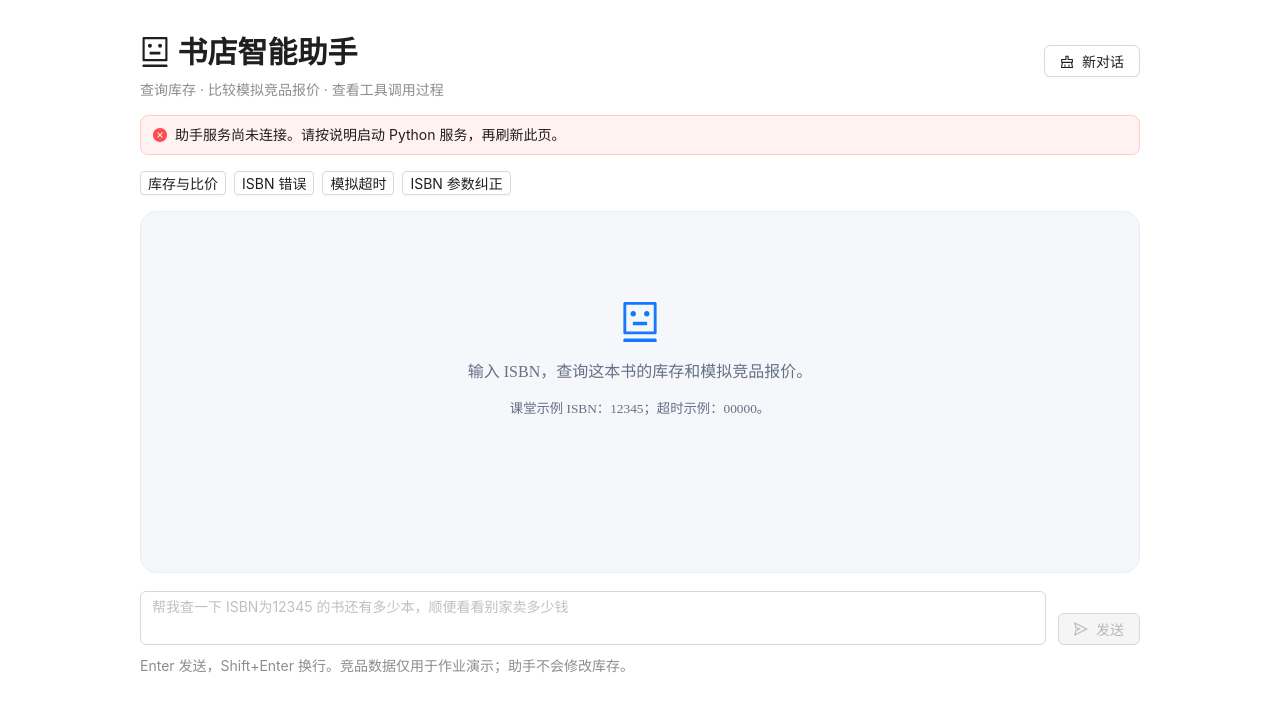
Test case: 健康检查失败后聊天成功清除旧错误并更新运行模式
Expected: the text "助手服务尚未连接。请按说明启动 Python 服务，再刷新此页。" is shown, [175, 126, 565, 143]
In the text box named "用户问题": [593, 618] box [140, 591, 1046, 645], type "ISBN为12345库存"
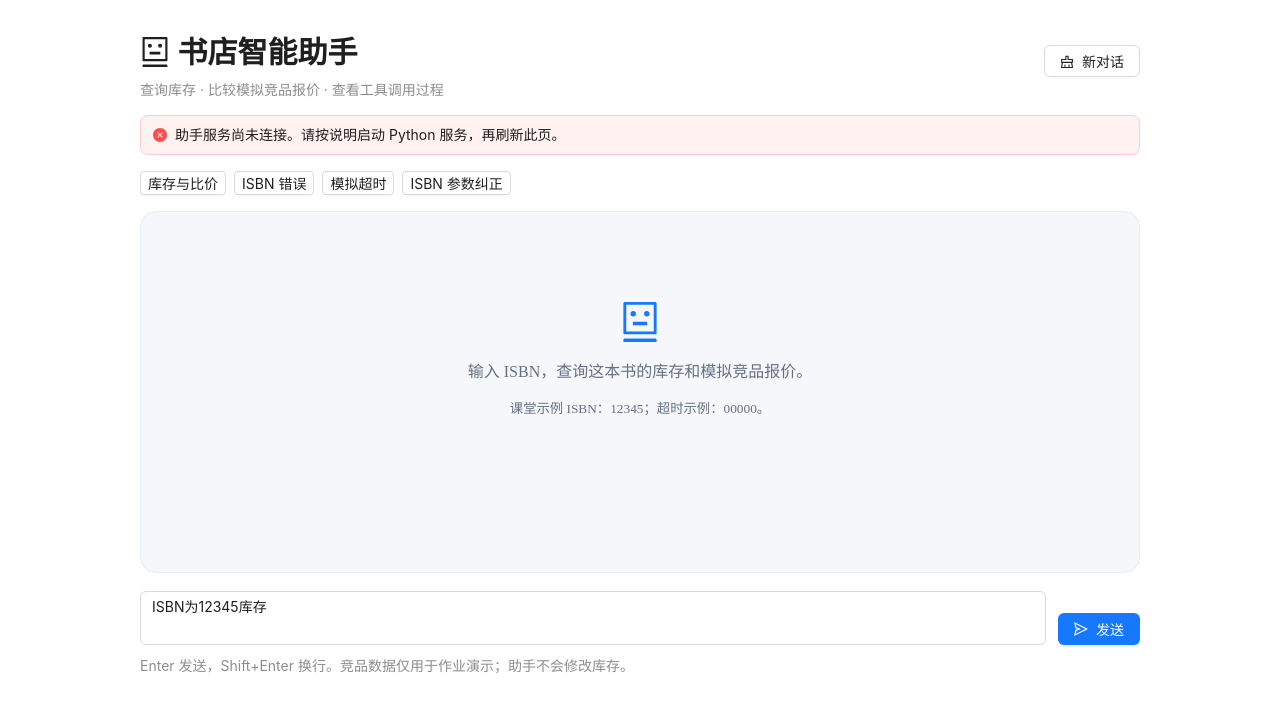
Click the button "发送": [1099, 629] box [1058, 613, 1140, 645]
(page scrolled)
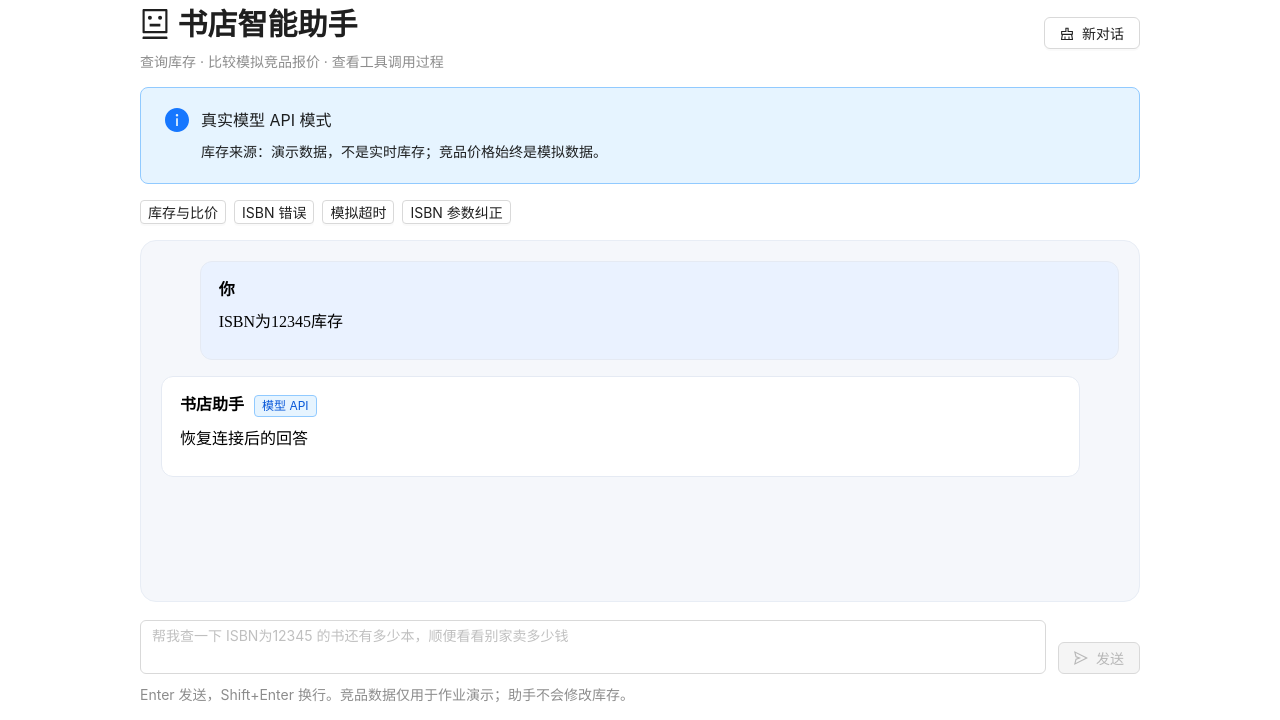
Result: the text "恢复连接后的回答" is shown at [180, 430, 308, 447]
Result: the text "助手服务尚未连接" is gone
Result: the text "真实模型 API 模式" is shown at [201, 110, 332, 130]
